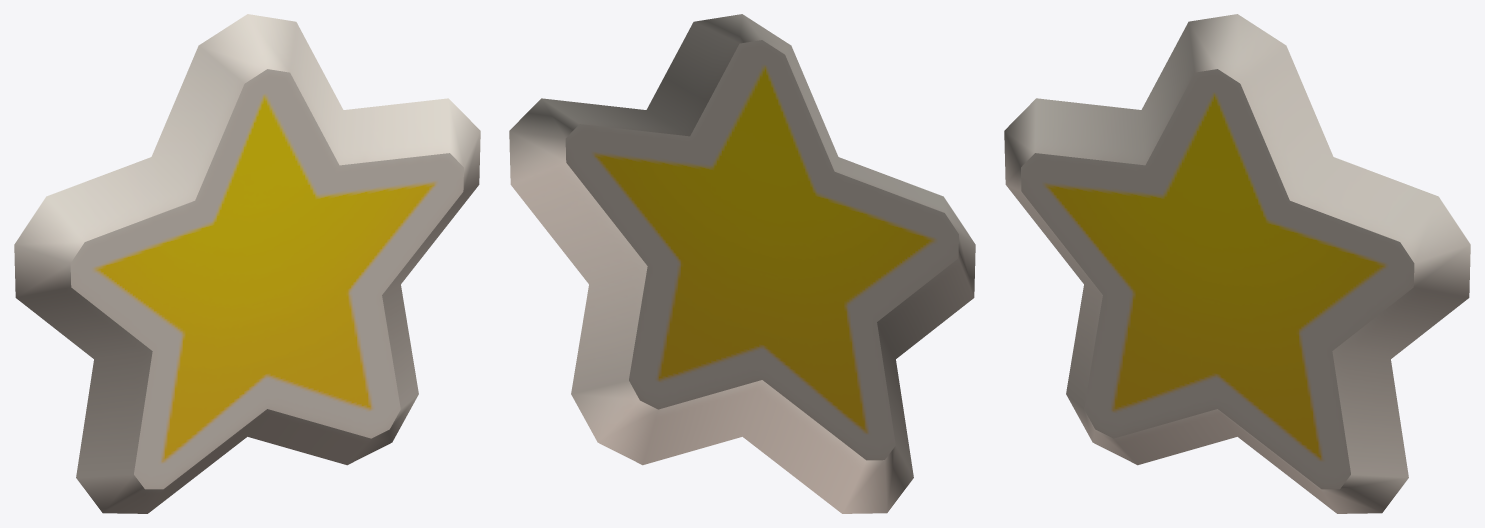
Rendered from star_sticker_01.fbx.
3 views of the same model, side by side, from view 1: azimuth 30°, elevation 25°; view 2: azimuth 150°, elevation 25°; view 3: azimuth 330°, elevation 25° (orthographic).
Visible parts, largest first — view 1: star_sticker_01; view 2: star_sticker_01; view 3: star_sticker_01.
Boxes of the visible parts, box(x1,y1,x2,y2) form: star_sticker_01: box(14, 14, 480, 513); star_sticker_01: box(509, 14, 975, 513); star_sticker_01: box(1004, 14, 1470, 513).
Bounding box in the file's own units: 22.05 × 21.48 × 1.62.
